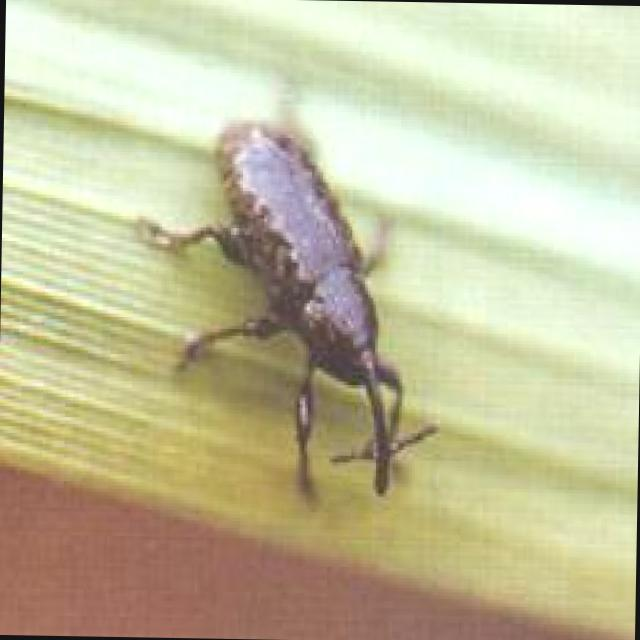ricebug: (141, 122, 435, 494)
